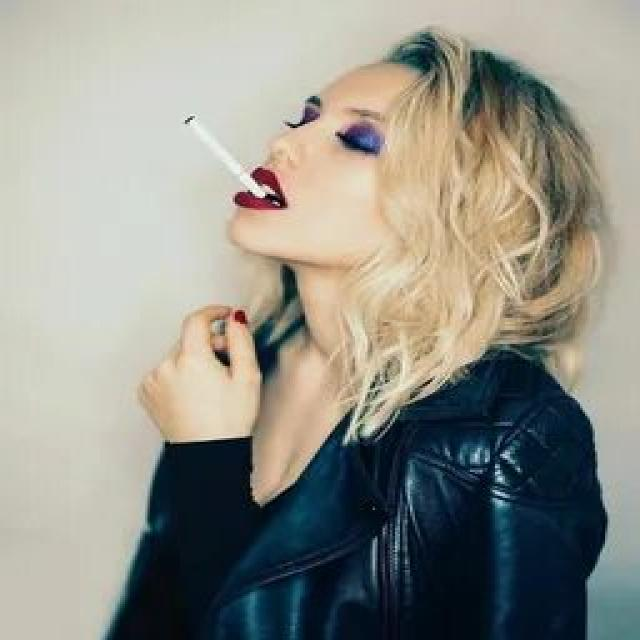cigarette: (180, 110, 275, 202)
